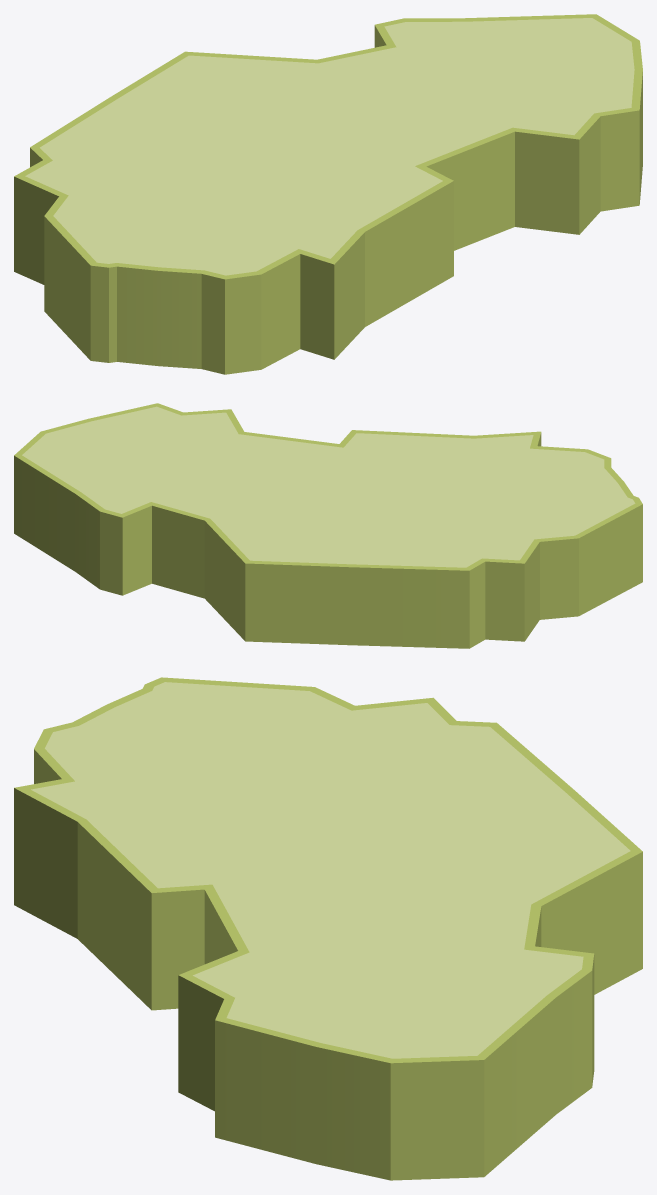
The model's file is Islands2.006.fbx.
The picture shows the model from 3 angles, top to bottom: view 1: azimuth 30°, elevation 25°; view 2: azimuth 150°, elevation 25°; view 3: azimuth 270°, elevation 25°; orthographic projection. The views are drawn at different scales.
Visible parts, largest first — view 1: Island2.006; view 2: Island2.006; view 3: Island2.006.
Part boxes in pixels (x1=…): Island2.006: x1=14, y1=14, x2=642, y2=374; Island2.006: x1=14, y1=403, x2=642, y2=648; Island2.006: x1=14, y1=677, x2=642, y2=1180.
Bounding box in the file's own units: 176 × 25 × 121.
